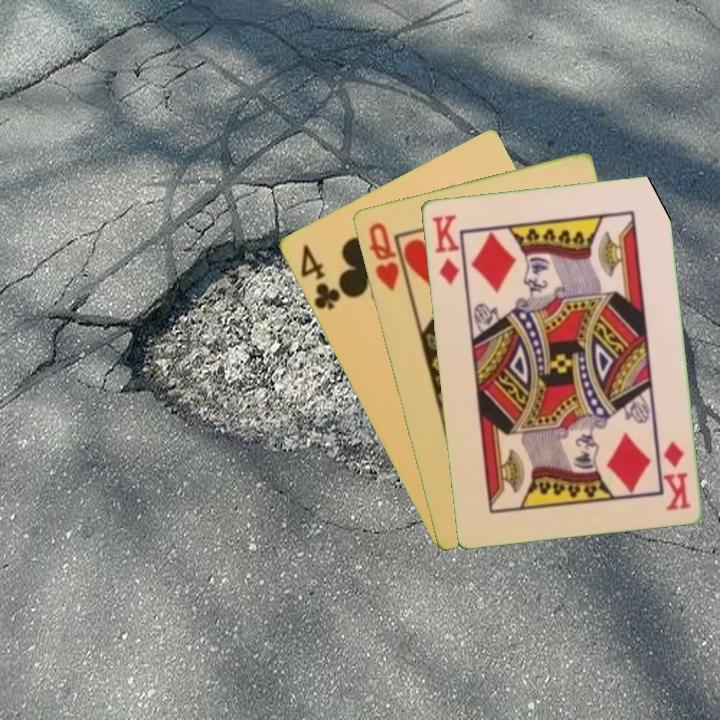4c: (296, 240, 343, 313)
Kd: (428, 210, 462, 288), (659, 437, 693, 513)
Qh: (365, 218, 402, 294)
